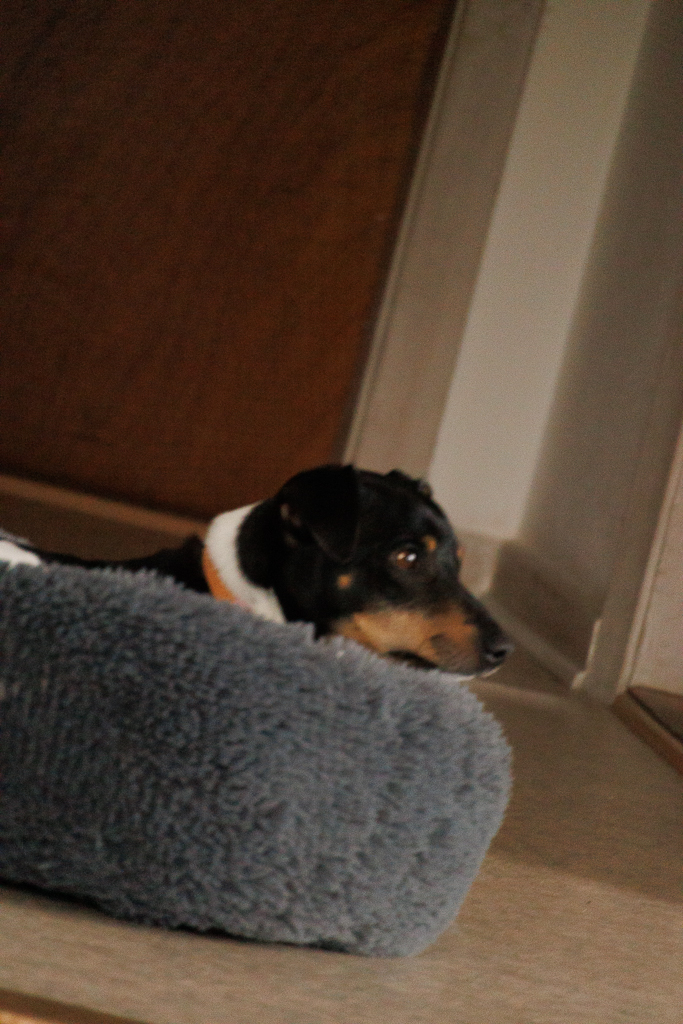Dog: (0, 451, 524, 702)
